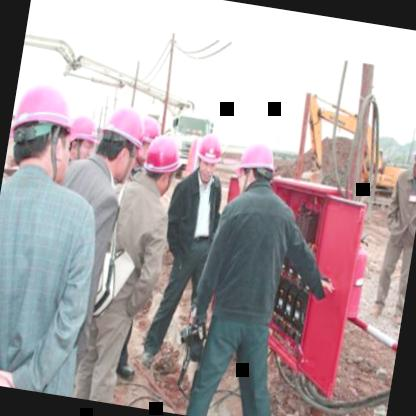helmet: (4, 70, 80, 181), (94, 101, 150, 180), (140, 129, 186, 196), (232, 136, 280, 200), (63, 110, 100, 167), (191, 130, 226, 184), (409, 134, 416, 177)
